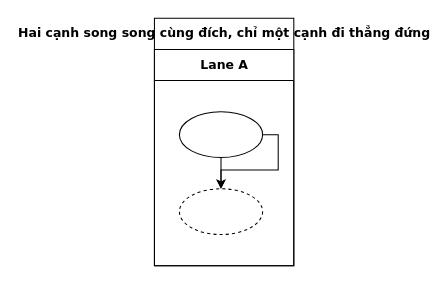
The diagram is 447 pixels wide and 284 high, and some of its shapes have lost their labels. The centre of each missing label's shape, as x and y in pixels:
A-1 x: (x=220, y=134)
A-2 x: (x=220, y=211)
